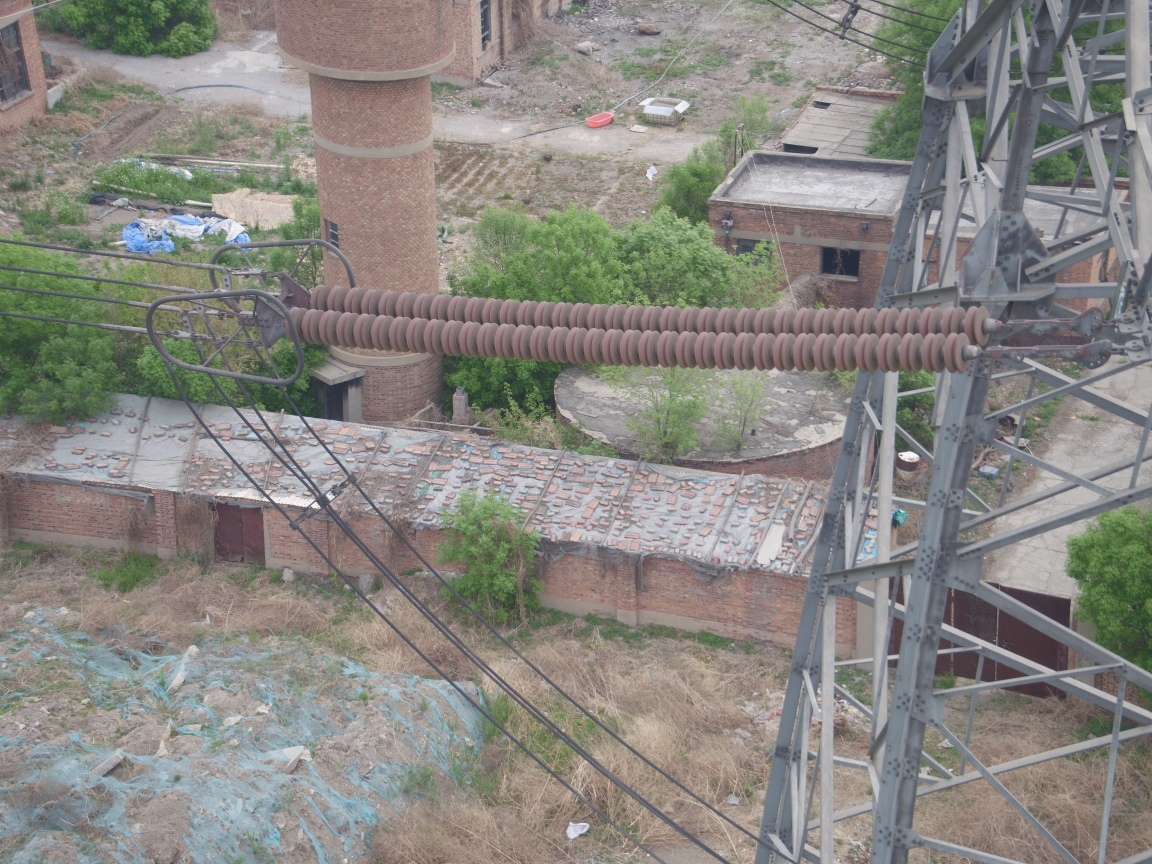insulator: (272, 282, 1036, 375)
